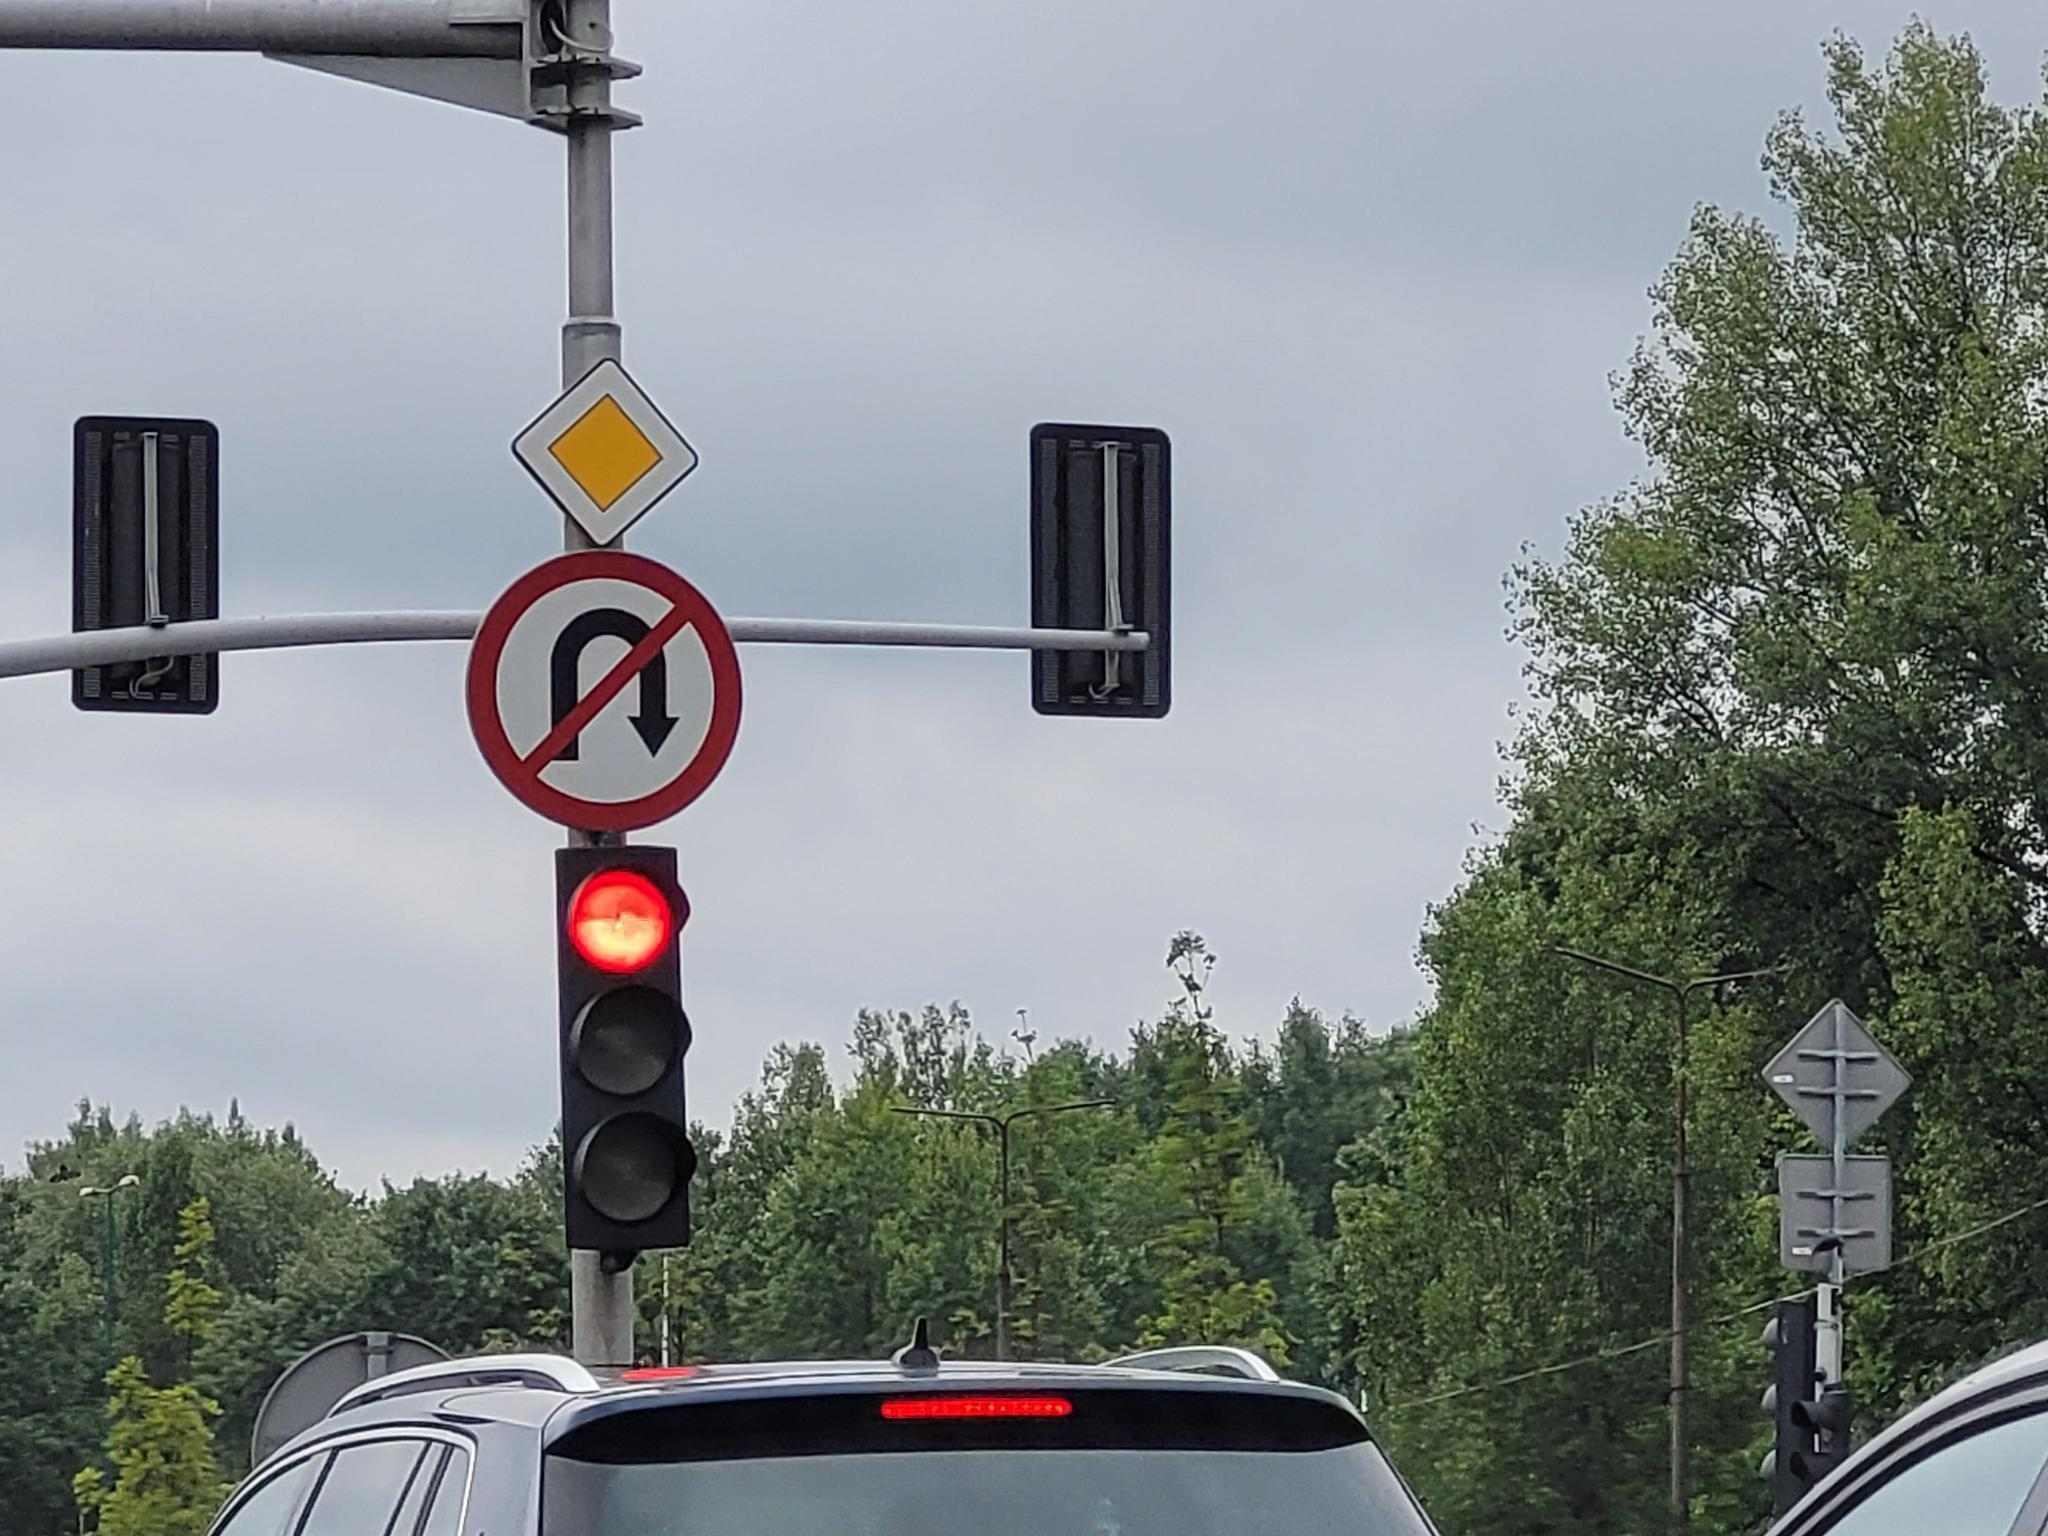information: (506, 354, 704, 548)
prohibitory: (461, 542, 745, 838)
